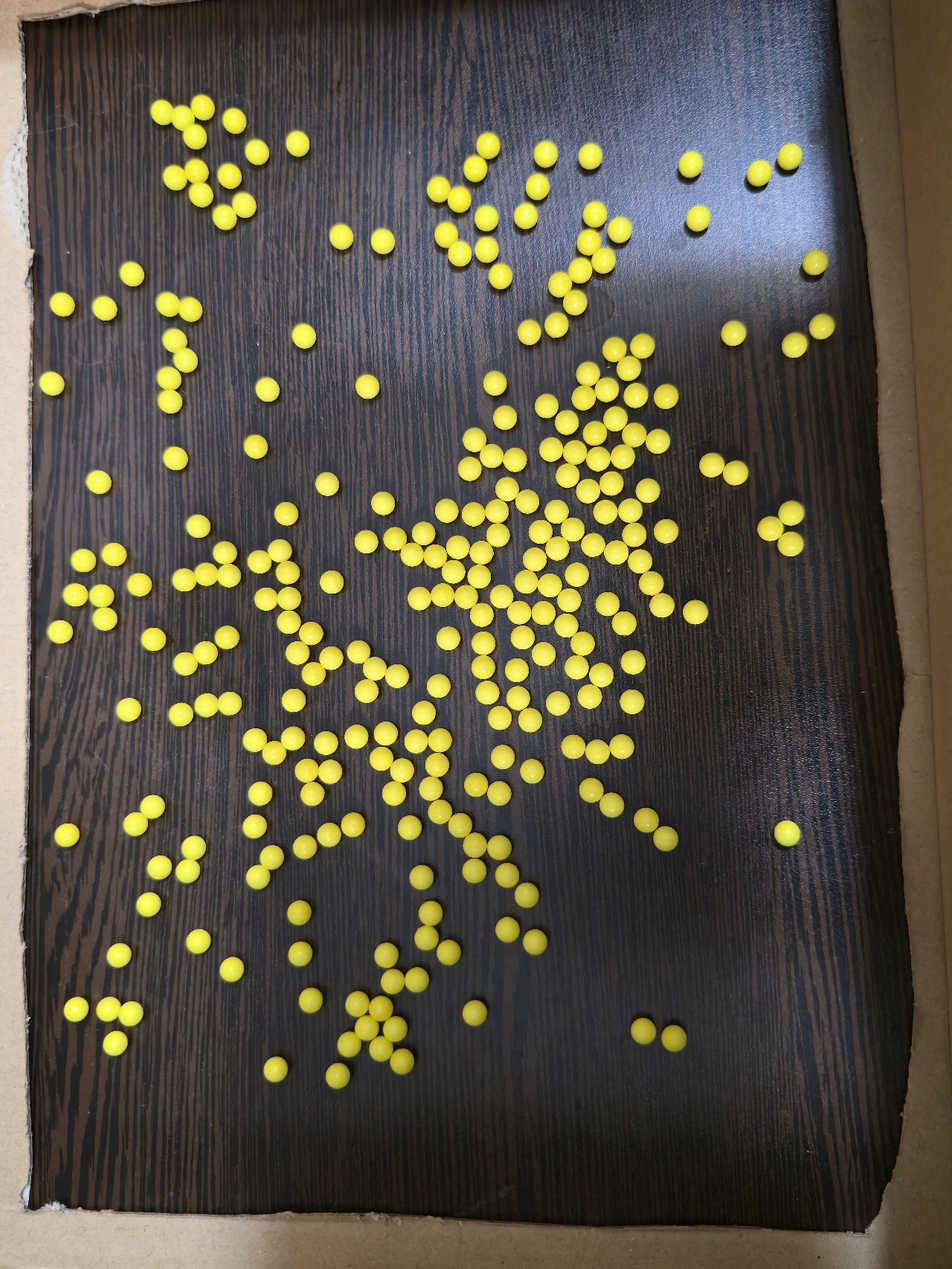yellow_bead: (156, 106, 201, 144), (168, 334, 191, 366), (161, 298, 196, 315), (122, 1007, 137, 1020), (480, 242, 493, 257), (102, 1003, 118, 1015), (780, 827, 794, 840), (788, 338, 801, 352), (597, 253, 610, 267), (454, 245, 466, 260), (614, 222, 626, 237), (685, 157, 697, 172), (198, 569, 214, 580), (168, 173, 184, 184), (70, 1003, 83, 1016), (181, 864, 194, 877), (187, 842, 200, 855), (222, 569, 235, 582), (97, 302, 110, 315), (569, 296, 582, 309), (809, 256, 822, 269), (480, 211, 493, 224), (195, 189, 208, 202), (582, 367, 594, 381), (815, 321, 829, 333), (574, 263, 586, 277), (200, 700, 215, 711), (555, 277, 566, 292), (533, 179, 544, 194), (292, 136, 303, 151), (109, 1038, 122, 1050), (225, 964, 238, 976), (112, 950, 125, 962), (192, 936, 205, 948), (129, 818, 142, 830), (615, 741, 628, 753), (121, 704, 134, 716), (610, 547, 623, 559), (785, 507, 798, 519), (582, 485, 594, 498), (729, 467, 742, 479), (706, 459, 718, 472), (592, 453, 605, 465), (168, 452, 181, 464), (569, 446, 581, 459), (652, 435, 664, 448), (578, 391, 590, 404), (630, 389, 642, 402), (261, 383, 273, 396), (623, 362, 635, 375), (608, 343, 620, 356), (636, 340, 649, 352), (298, 330, 310, 343), (524, 325, 536, 338), (125, 268, 138, 280), (692, 212, 704, 225), (219, 211, 231, 224), (753, 167, 765, 180), (152, 862, 166, 873), (238, 198, 249, 212), (178, 659, 193, 669), (68, 590, 83, 600), (178, 575, 193, 585), (252, 871, 264, 883), (323, 829, 335, 841), (404, 822, 416, 834), (454, 820, 466, 832), (146, 801, 158, 813), (606, 800, 618, 812), (254, 788, 266, 800), (493, 788, 505, 800), (425, 783, 437, 795), (431, 759, 443, 771), (268, 747, 280, 759), (552, 698, 564, 710), (584, 691, 596, 703), (595, 669, 607, 681), (369, 663, 381, 675), (477, 661, 489, 673), (628, 657, 640, 669), (132, 579, 144, 591), (521, 576, 533, 588), (634, 556, 646, 568), (407, 549, 419, 561), (219, 547, 231, 559), (475, 547, 487, 559), (567, 524, 579, 536), (765, 523, 777, 535), (468, 509, 480, 521), (551, 506, 563, 518), (377, 498, 389, 510), (92, 476, 104, 488), (509, 454, 521, 466), (617, 451, 629, 463), (486, 450, 498, 462), (609, 413, 621, 425), (164, 395, 176, 407), (489, 378, 501, 390), (45, 378, 57, 390), (728, 327, 740, 339), (335, 231, 347, 243), (251, 147, 263, 159), (270, 1063, 281, 1076), (142, 899, 155, 910), (469, 864, 480, 877), (388, 787, 399, 800), (591, 747, 604, 758), (222, 698, 235, 709), (97, 614, 110, 625), (689, 607, 702, 618), (656, 600, 669, 611), (260, 594, 273, 605), (543, 580, 556, 591), (784, 539, 797, 550), (191, 521, 204, 532), (490, 506, 503, 517), (624, 505, 637, 516), (643, 484, 654, 497), (562, 469, 573, 482), (589, 427, 600, 440), (162, 373, 175, 384), (551, 318, 562, 331), (55, 299, 68, 310), (783, 154, 797, 164), (416, 872, 427, 884), (266, 852, 277, 864), (493, 842, 504, 854), (299, 842, 311, 853), (469, 840, 480, 852), (660, 833, 671, 845), (248, 821, 260, 832), (323, 767, 335, 778), (396, 765, 407, 777), (411, 736, 422, 748), (287, 733, 298, 745), (524, 715, 536, 726), (627, 696, 638, 708), (512, 693, 524, 704), (481, 687, 493, 698), (571, 662, 583, 673), (538, 649, 550, 660), (561, 620, 572, 632), (619, 618, 631, 629), (476, 609, 487, 621), (538, 608, 550, 619), (602, 599, 614, 610), (460, 592, 472, 603), (95, 591, 107, 602), (571, 570, 583, 581), (254, 557, 266, 568), (77, 555, 89, 566), (529, 554, 541, 565), (429, 551, 441, 562), (274, 546, 286, 557), (552, 543, 563, 555), (452, 542, 464, 553), (492, 530, 504, 541), (629, 529, 640, 541), (660, 527, 672, 538), (535, 527, 547, 538), (501, 484, 513, 495), (321, 479, 333, 490), (605, 478, 617, 489), (464, 463, 475, 475), (545, 444, 557, 455), (469, 434, 480, 446), (561, 417, 573, 428), (499, 412, 511, 423), (660, 391, 672, 402), (601, 384, 613, 395), (361, 382, 373, 393), (377, 236, 388, 248), (174, 710, 187, 720), (106, 550, 119, 560), (469, 1008, 480, 1019), (295, 949, 306, 960), (501, 870, 512, 881), (347, 820, 358, 831), (641, 815, 652, 826), (434, 807, 445, 818), (307, 789, 318, 800), (527, 766, 538, 777), (497, 752, 508, 763), (568, 742, 579, 753), (320, 738, 331, 749), (434, 735, 445, 746), (249, 735, 260, 746), (494, 713, 505, 724), (418, 708, 429, 719), (288, 695, 299, 706), (361, 686, 372, 697), (433, 681, 444, 692), (391, 671, 402, 682), (512, 665, 523, 676), (325, 653, 336, 664), (292, 648, 303, 659), (353, 647, 364, 658), (478, 638, 489, 649), (147, 634, 158, 645), (517, 632, 528, 643), (283, 617, 294, 628), (564, 595, 575, 606), (326, 577, 337, 588), (474, 571, 485, 582), (282, 567, 293, 578), (448, 566, 459, 577), (588, 540, 599, 551), (280, 508, 291, 519), (600, 507, 611, 518), (250, 442, 261, 453), (541, 401, 552, 412), (495, 272, 506, 283), (332, 1070, 342, 1082), (585, 787, 597, 797), (198, 648, 210, 658), (305, 629, 317, 639), (282, 594, 294, 604), (414, 594, 426, 604), (497, 591, 507, 603), (437, 591, 449, 601), (521, 497, 533, 507), (628, 431, 640, 441), (60, 832, 73, 841), (389, 1025, 400, 1035), (305, 996, 316, 1006), (521, 890, 531, 901), (471, 780, 481, 791), (376, 754, 386, 765), (350, 732, 361, 742), (380, 729, 391, 739), (308, 669, 318, 680), (577, 639, 588, 649), (443, 634, 454, 644), (514, 608, 525, 618), (646, 579, 657, 589), (361, 537, 372, 547), (389, 534, 400, 544), (418, 529, 429, 539), (441, 506, 451, 517), (585, 154, 596, 164), (637, 1025, 646, 1037), (440, 228, 448, 241), (421, 934, 431, 944), (387, 977, 396, 988), (411, 975, 420, 986), (530, 937, 539, 948), (425, 910, 436, 919), (294, 908, 303, 919), (300, 766, 309, 777), (381, 950, 389, 962), (502, 924, 509, 936), (221, 634, 230, 643), (589, 208, 598, 217), (351, 1000, 358, 1011), (361, 1025, 368, 1035), (188, 167, 198, 174), (376, 1044, 382, 1055), (521, 217, 532, 223), (670, 1035, 678, 1043), (443, 951, 451, 959), (583, 237, 591, 245), (344, 1042, 351, 1051), (223, 171, 231, 178), (53, 632, 62, 637), (396, 1061, 402, 1067), (482, 141, 489, 146), (228, 116, 234, 121), (547, 154, 552, 159), (472, 165, 477, 169), (199, 104, 203, 109), (437, 186, 441, 190), (376, 1008, 379, 1012), (63, 632, 66, 636), (456, 196, 460, 199), (540, 152, 542, 155)
